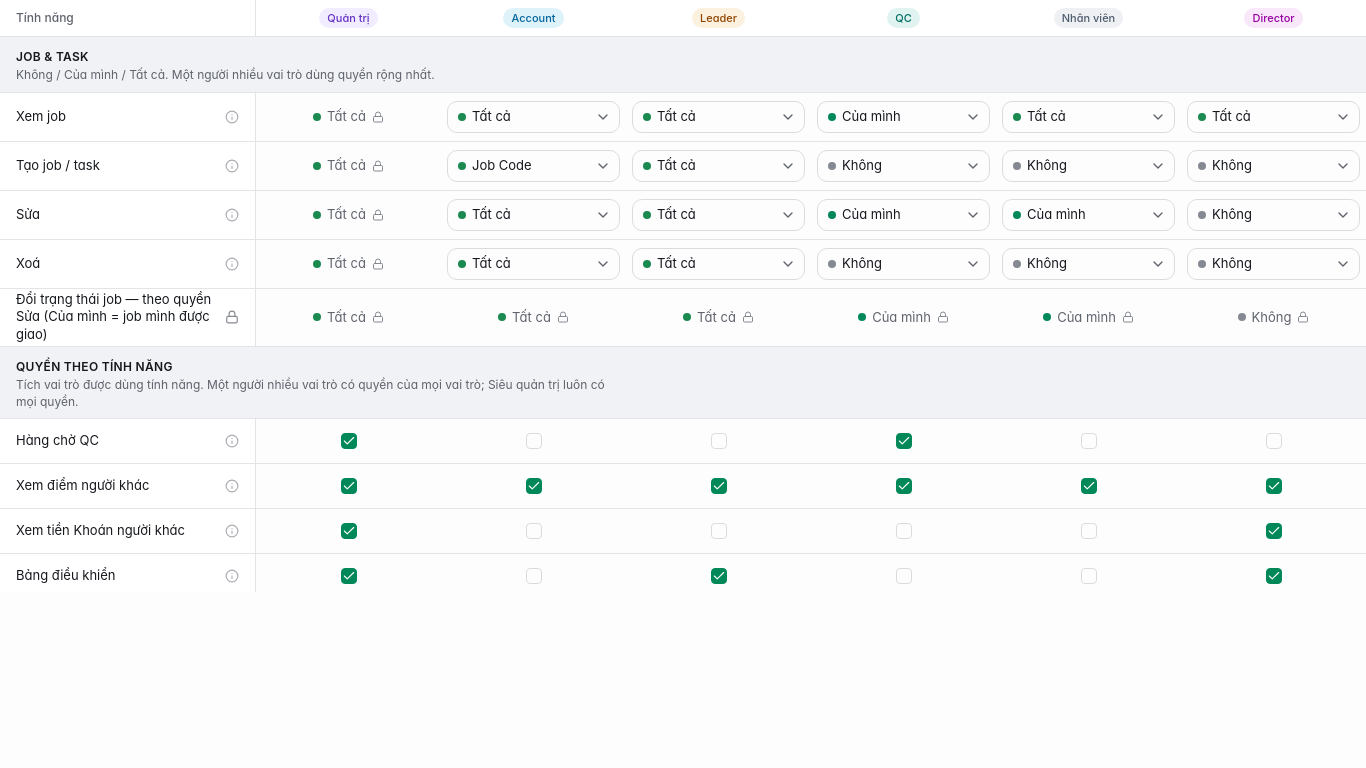
Test: RetouchMatrix (PD-042) — job & task › reads fine with staff who neither create nor delete (PD-047)
expect the dropdown named "Tạo job / task — Nhân viên" shows "Không": met, box [1002,150,1175,182]
expect the dropdown named "Xoá — Nhân viên" shows "Không": met, box [1002,248,1175,280]
Note: The row help says a worker's own subtasks stay deletable.
Click the button "Xoá": (128, 264) [12,244,243,284]
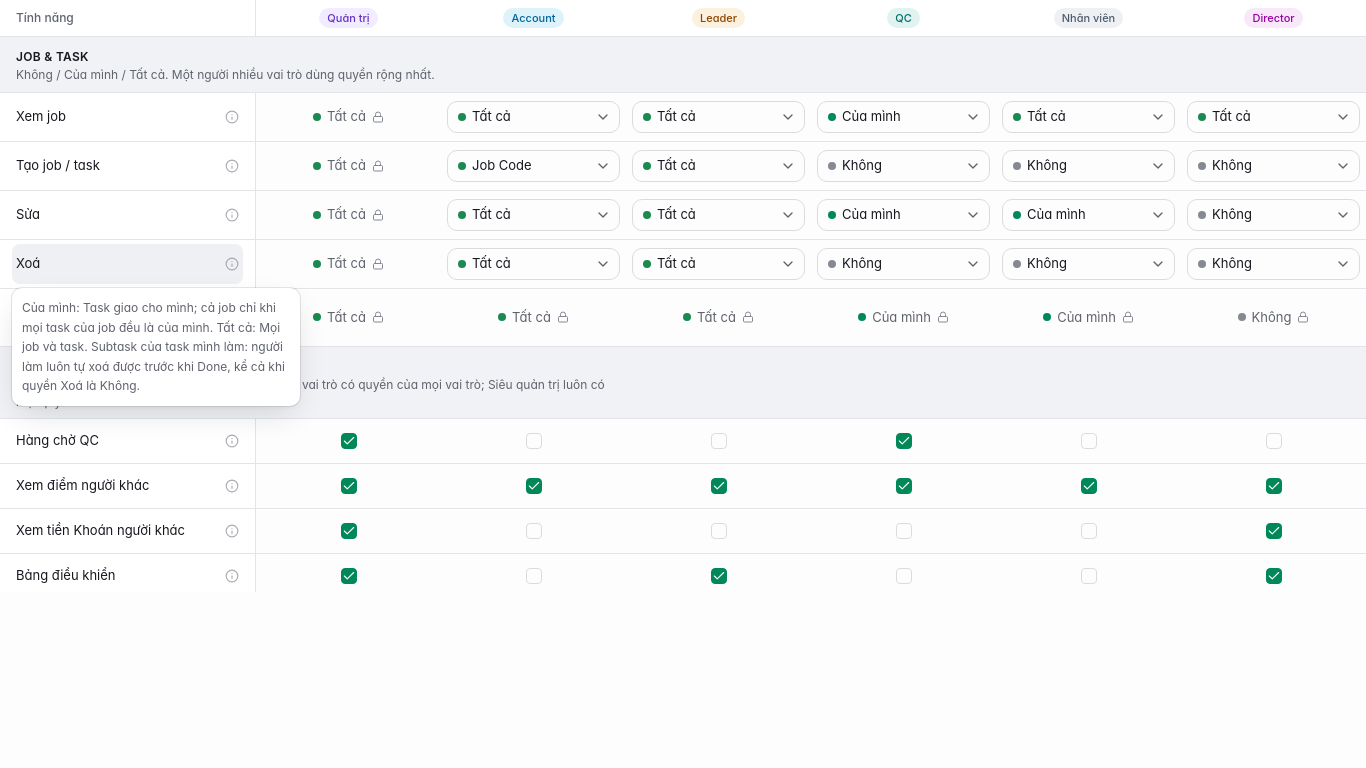
expect the text "Subtask của task mình làm" is shown: met, box [22,300,285,393]
